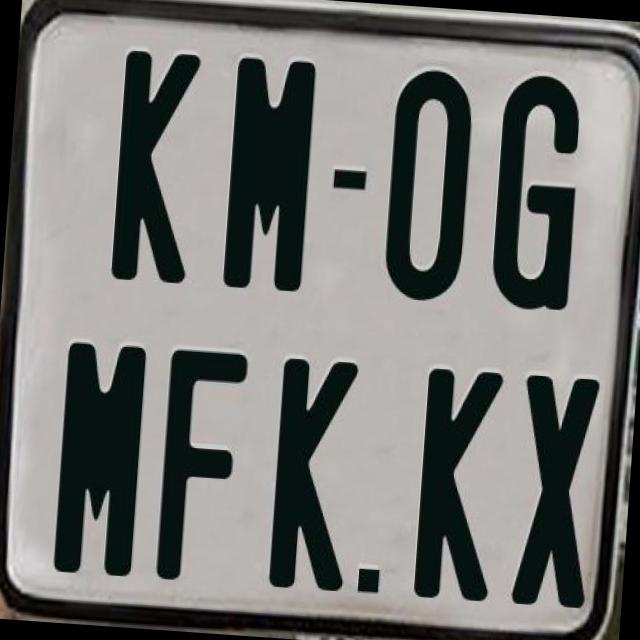0: (382, 66, 476, 304)
F: (154, 346, 252, 588)
G: (485, 68, 579, 308)
K: (409, 364, 508, 603), (109, 44, 205, 288), (264, 356, 359, 593)
M: (50, 338, 146, 580), (220, 53, 318, 290)
X: (508, 372, 604, 612)
